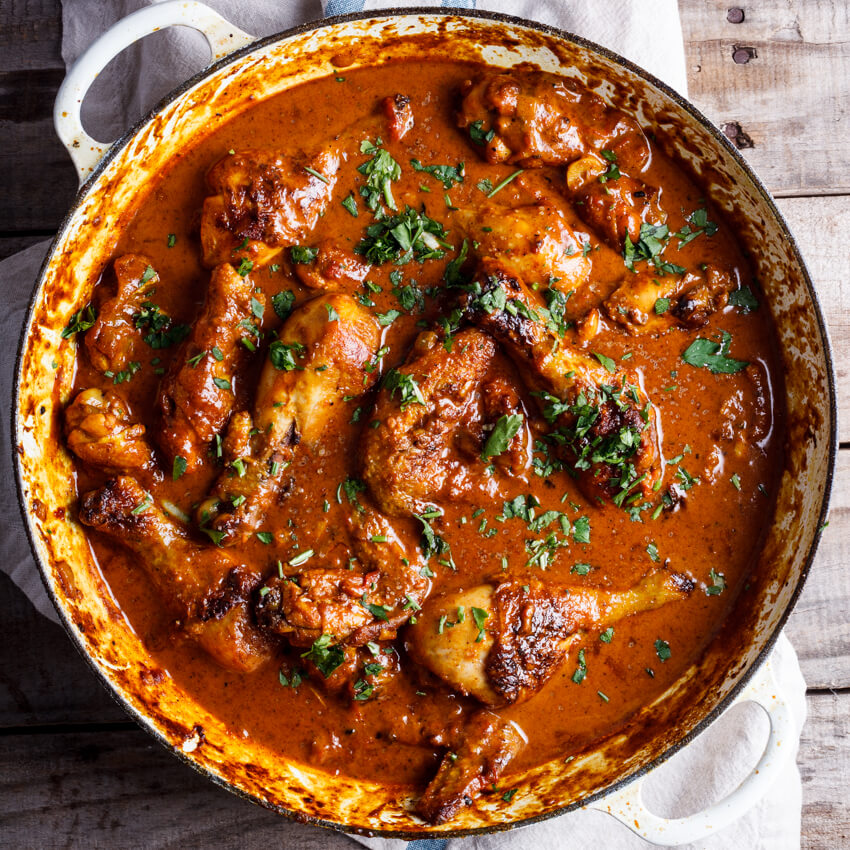chicken_curry: (109, 113, 766, 763)
